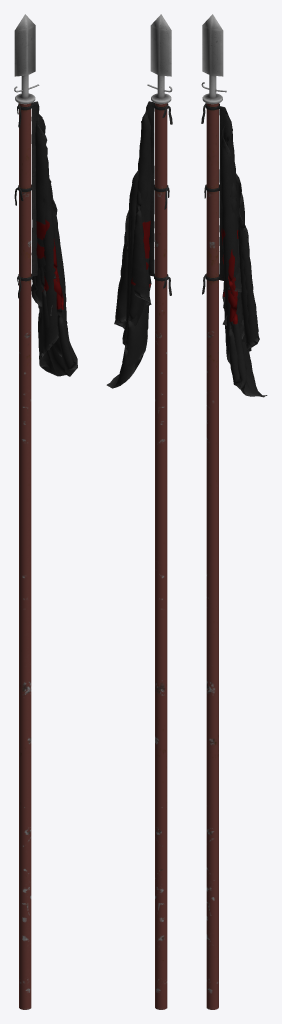
Rendered from SM_Flag_Weight.fbx.
3 renders of one model, left to right at view 1: azimuth 30°, elevation 25°; view 2: azimuth 150°, elevation 25°; view 3: azimuth 330°, elevation 25°, orthographic.
Parts seen in each view (by area): view 1: SM_Flag_Weight; view 2: SM_Flag_Weight; view 3: SM_Flag_Weight.
Boxes of the visible parts, bbox=[...] form: SM_Flag_Weight: bbox=[14, 14, 77, 1009]; SM_Flag_Weight: bbox=[106, 14, 172, 1009]; SM_Flag_Weight: bbox=[201, 14, 267, 1009].
Bounding box in the file's own units: 28.88 × 19.49 × 477.
Materials: 1 (1 with a texture image).
